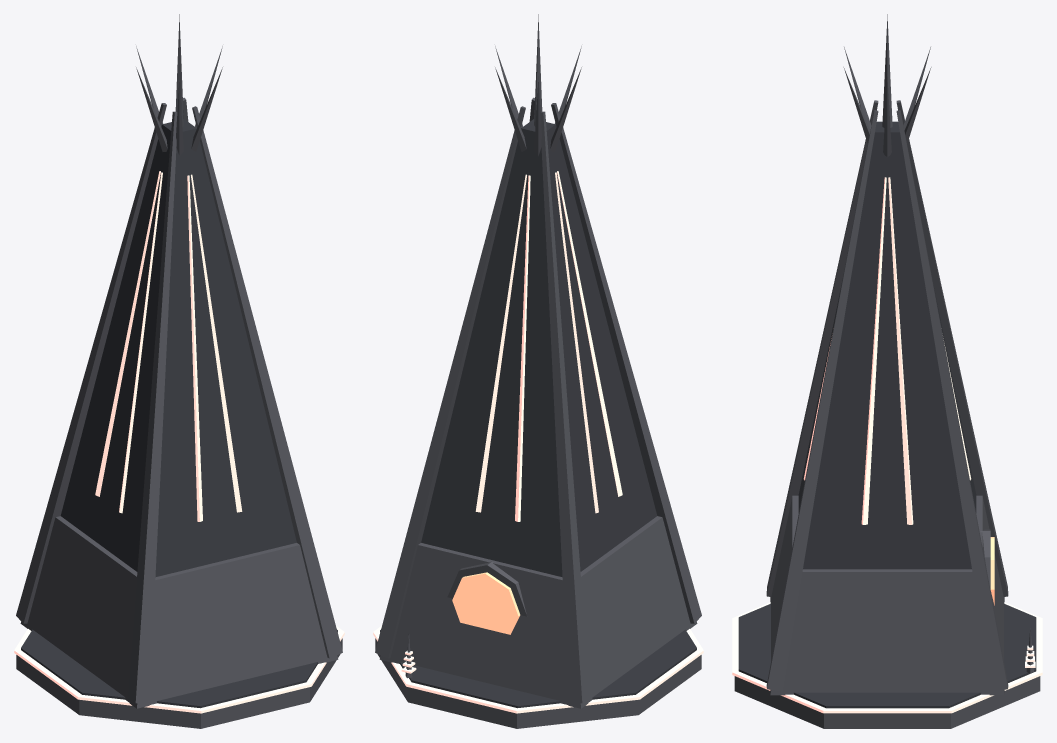
The model's file is zone_high_6_t4.glb.
3 views of the same model, side by side, from view 1: azimuth 30°, elevation 25°; view 2: azimuth 150°, elevation 25°; view 3: azimuth 270°, elevation 25° (orthographic).
Visible parts, largest first — view 1: zone_high_6_t4; view 2: zone_high_6_t4; view 3: zone_high_6_t4.
Boxes of the visible parts, x1=… form: zone_high_6_t4: x1=14, y1=14, x2=344, y2=728; zone_high_6_t4: x1=373, y1=14, x2=703, y2=728; zone_high_6_t4: x1=732, y1=14, x2=1042, y2=728.
Size of the model in its own units: 27.35 by 63.27 by 27.35.
